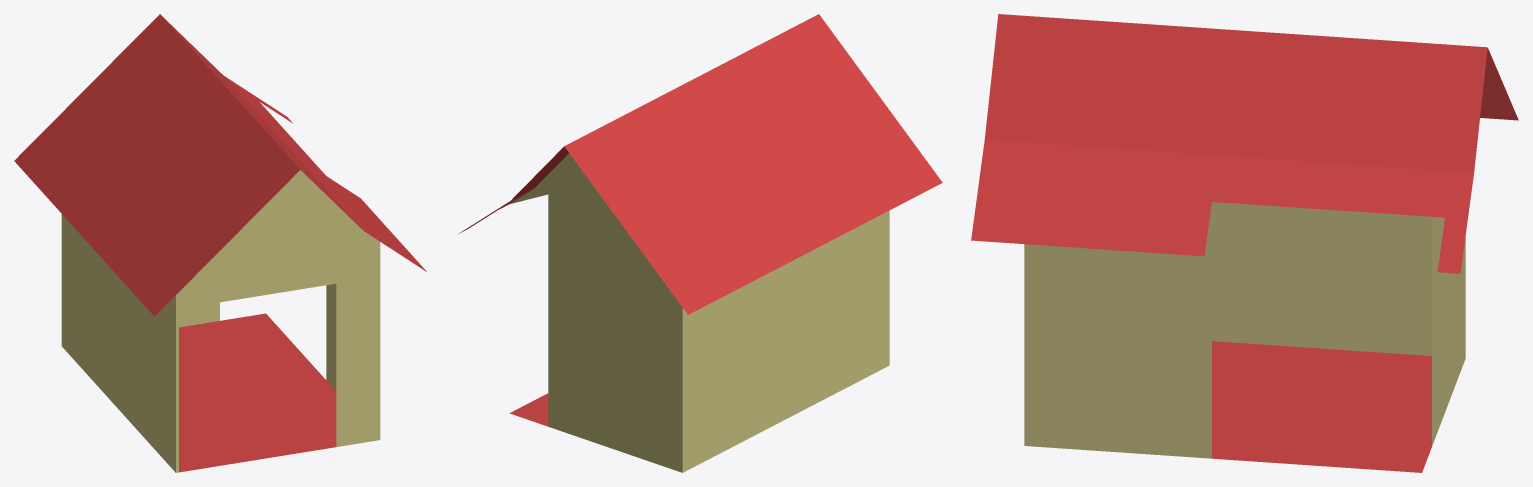
3 renders of one model, left to right at view 1: azimuth 30°, elevation 25°; view 2: azimuth 150°, elevation 25°; view 3: azimuth 270°, elevation 25°, orthographic. The views are drawn at different scales.
Size of the model in its own units: 14.28 by 17.71 by 13.44.
